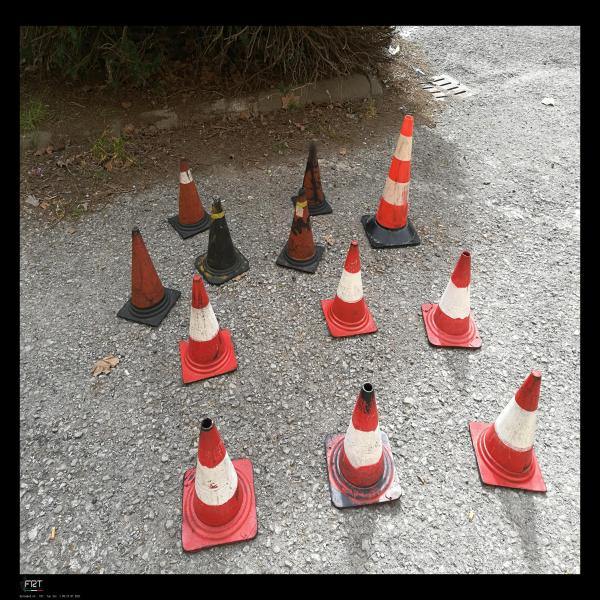large_orange_cone: (361, 115, 421, 248)
orange_cone: (182, 417, 258, 552), (324, 382, 402, 508), (469, 370, 547, 492), (179, 275, 238, 384), (421, 251, 482, 349), (320, 241, 378, 337)
unknown_cone: (116, 227, 182, 326), (195, 195, 250, 284), (276, 188, 325, 274), (168, 157, 211, 238), (292, 144, 332, 215)
